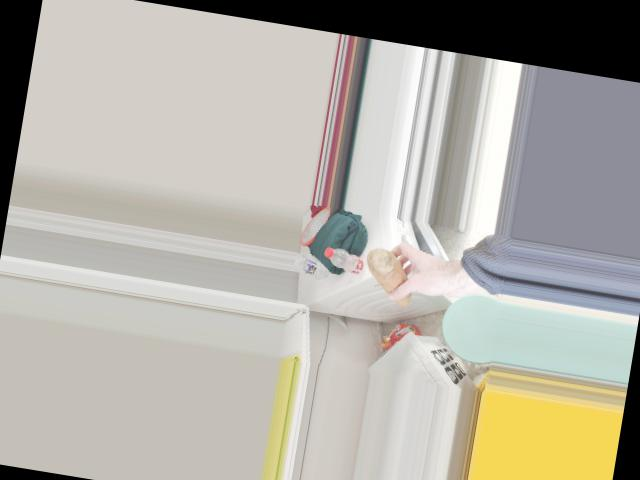sweet_potato: (360, 241, 418, 311)
